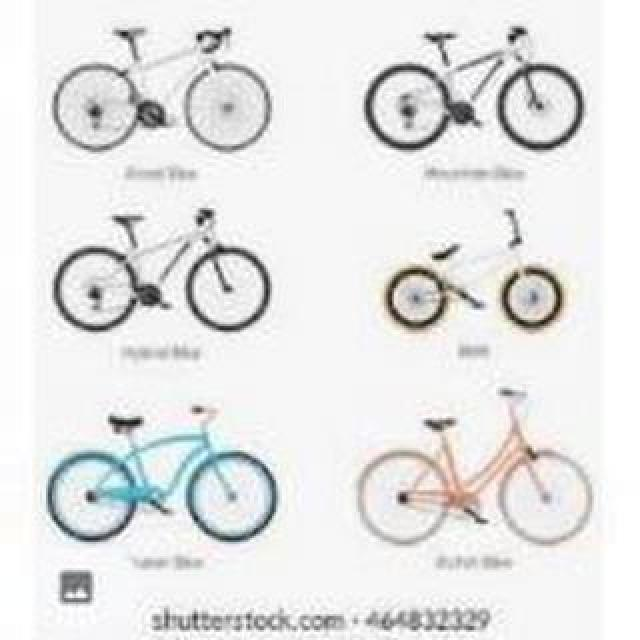Person: (354, 391, 592, 551), (45, 406, 279, 544), (52, 25, 272, 153), (52, 206, 272, 334), (364, 202, 574, 334), (365, 25, 581, 153)
